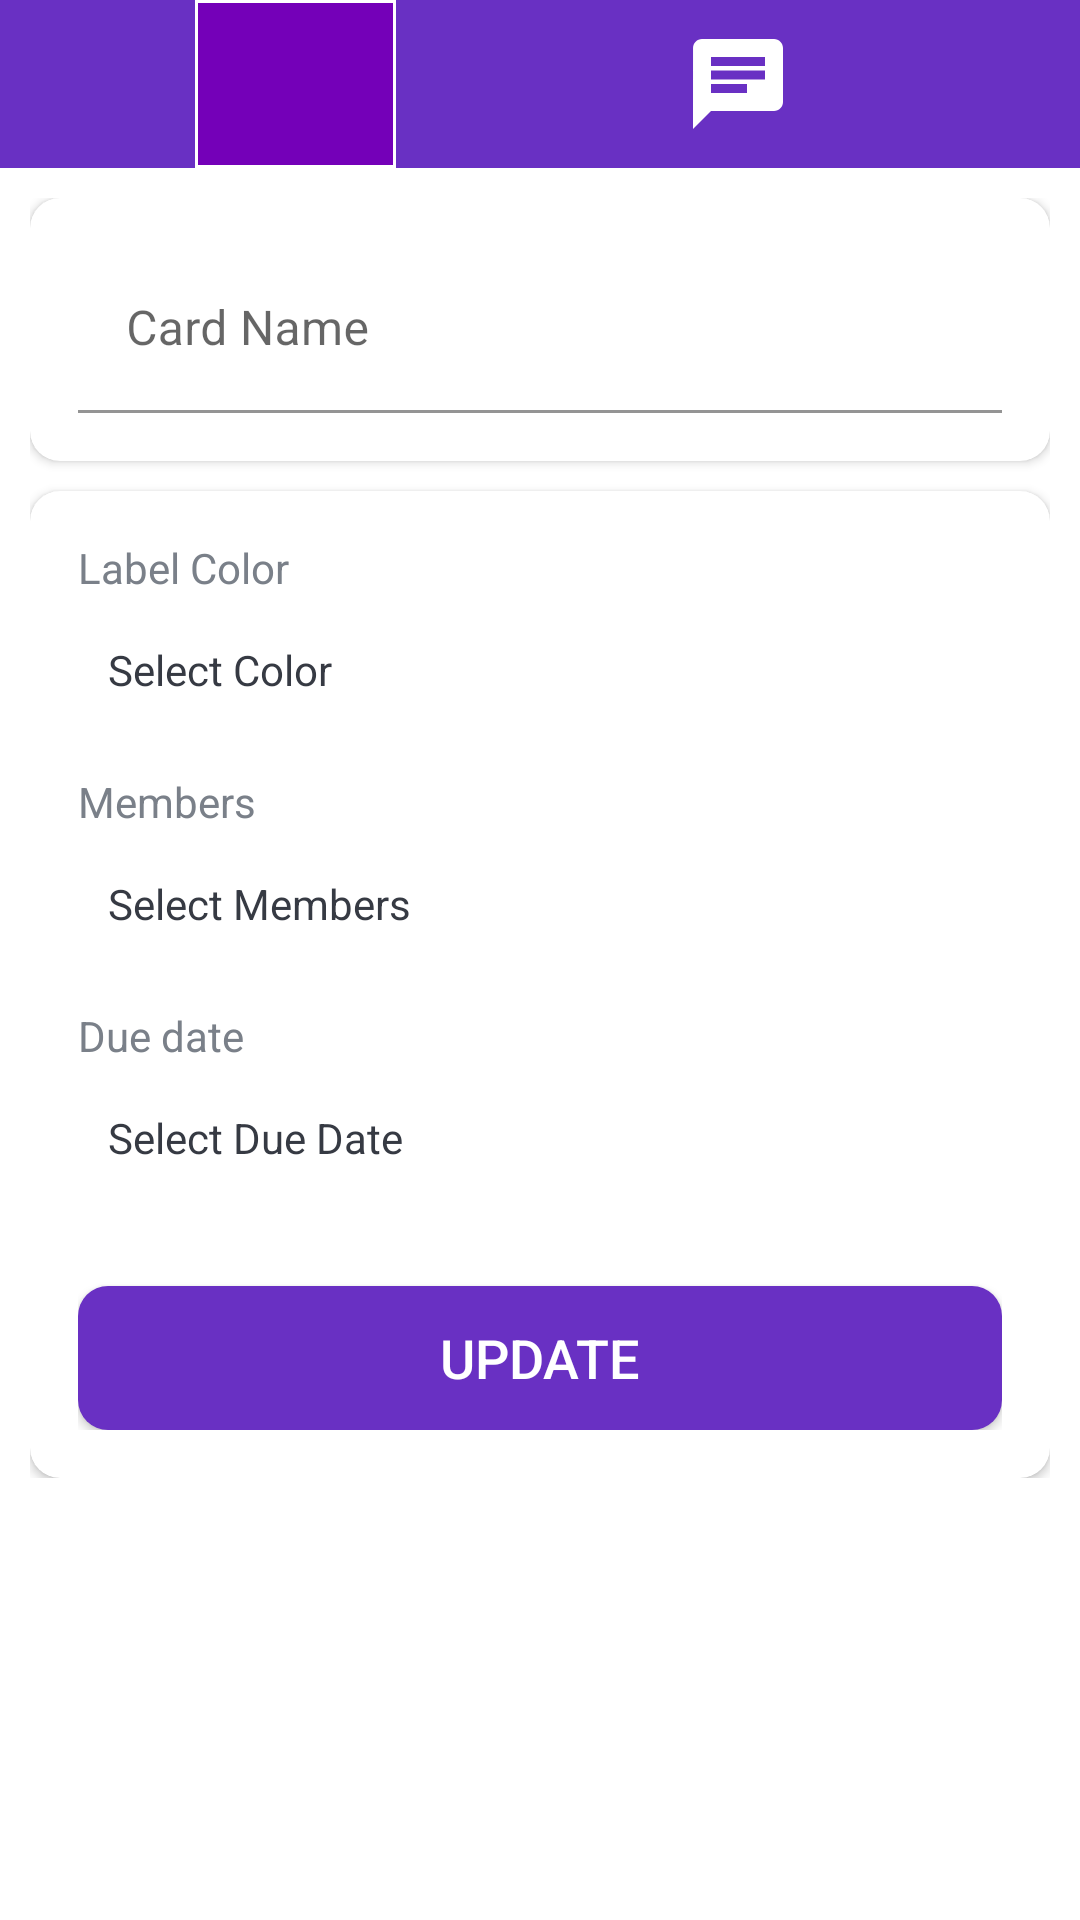

Where icons sit on this 1080x1920 app screen, as (x1, y1, x2, y2):
Chat: (693, 39, 783, 129)
